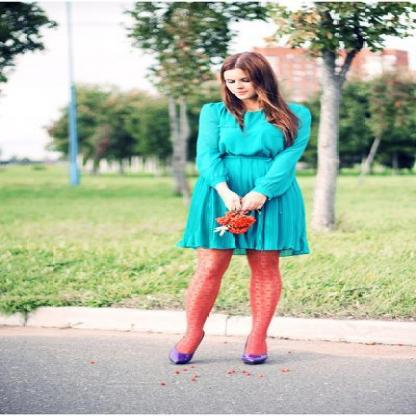bag: (213, 208, 255, 235)
dress: (177, 102, 310, 257)
shoe: (174, 344, 272, 365)
